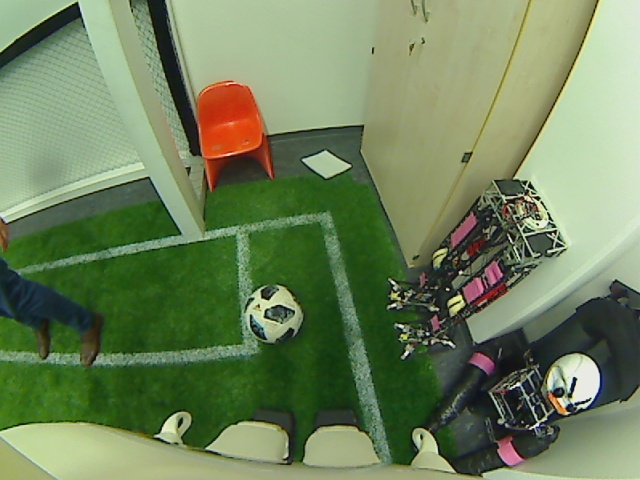ball: (242, 281, 305, 345)
